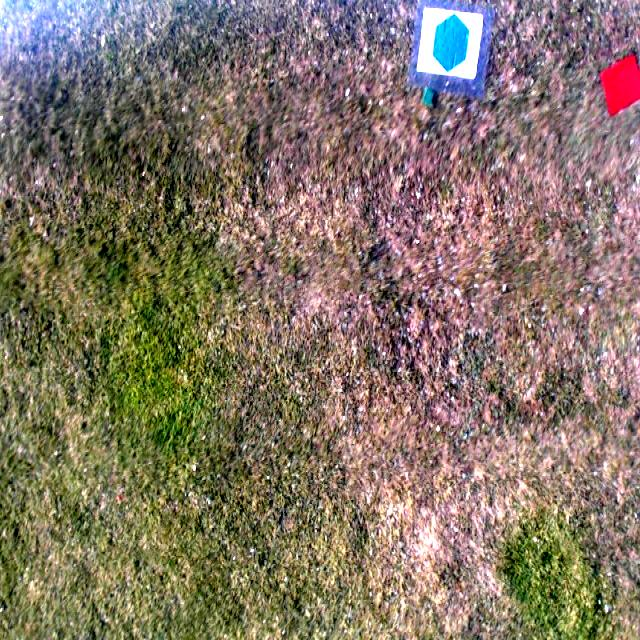blue_hexagon: (430, 14, 470, 73)
red_square: (602, 55, 640, 117)
